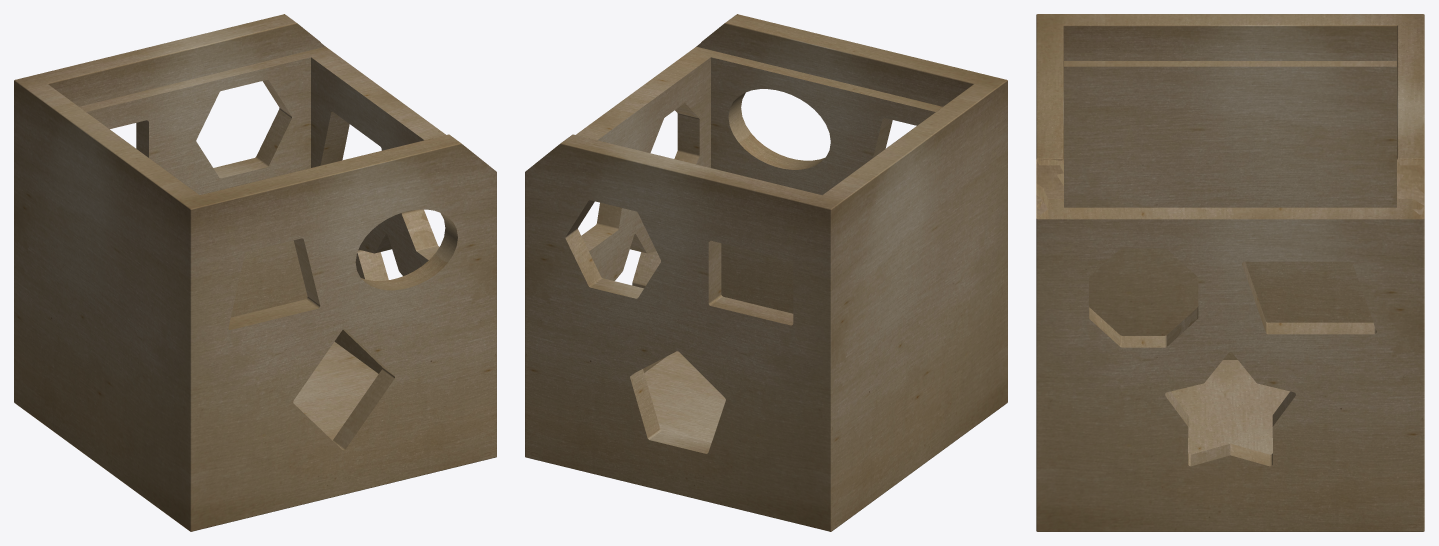
Rendered from shape_box_body.glb.
The picture shows the model from 3 angles, left to right: view 1: azimuth 30°, elevation 25°; view 2: azimuth 150°, elevation 25°; view 3: azimuth 270°, elevation 25°; orthographic projection. The views are drawn at different scales.
Visible parts, largest first — view 1: shape_box_2_body; view 2: shape_box_2_body; view 3: shape_box_2_body.
Boxes of the visible parts, x1=… form: shape_box_2_body: x1=14, y1=14, x2=496, y2=531; shape_box_2_body: x1=525, y1=14, x2=1007, y2=531; shape_box_2_body: x1=1036, y1=14, x2=1424, y2=531.
Size of the model in its own units: 0.14 by 0.141 by 0.14.
1 material, 1 textured.
